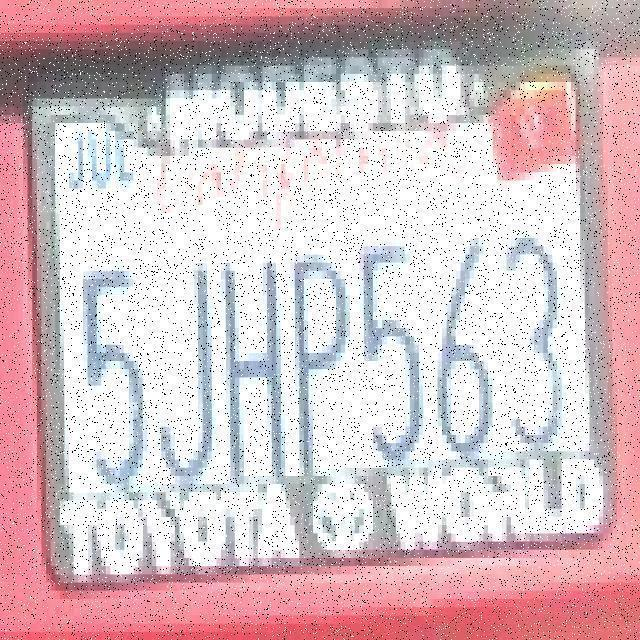License Plate: (20, 60, 628, 600)
